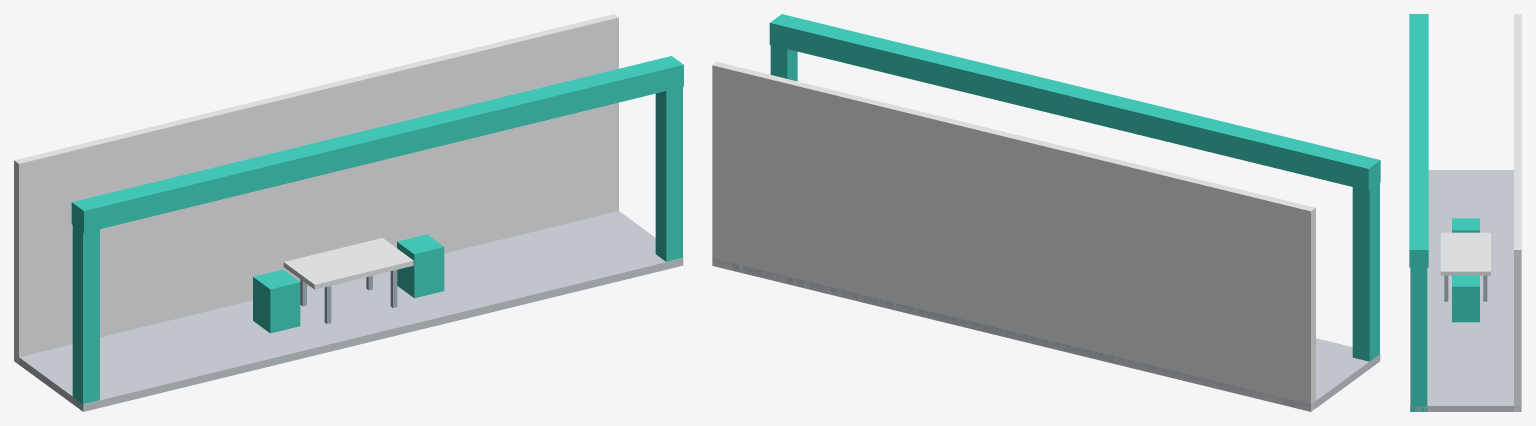
3 renders of one model, left to right at view 1: azimuth 30°, elevation 25°; view 2: azimuth 150°, elevation 25°; view 3: azimuth 270°, elevation 25°, orthographic. The views are drawn at different scales.
Visible parts, largest first — view 1: Exhibition Booth Concept; view 2: Exhibition Booth Concept; view 3: Exhibition Booth Concept.
Boxes of the visible parts, <box> form: Exhibition Booth Concept: <box>14,14,683,411</box>; Exhibition Booth Concept: <box>712,14,1380,411</box>; Exhibition Booth Concept: <box>1409,14,1521,411</box>.
Bounding box in the file's own units: 10 × 3.2 × 2.01.
